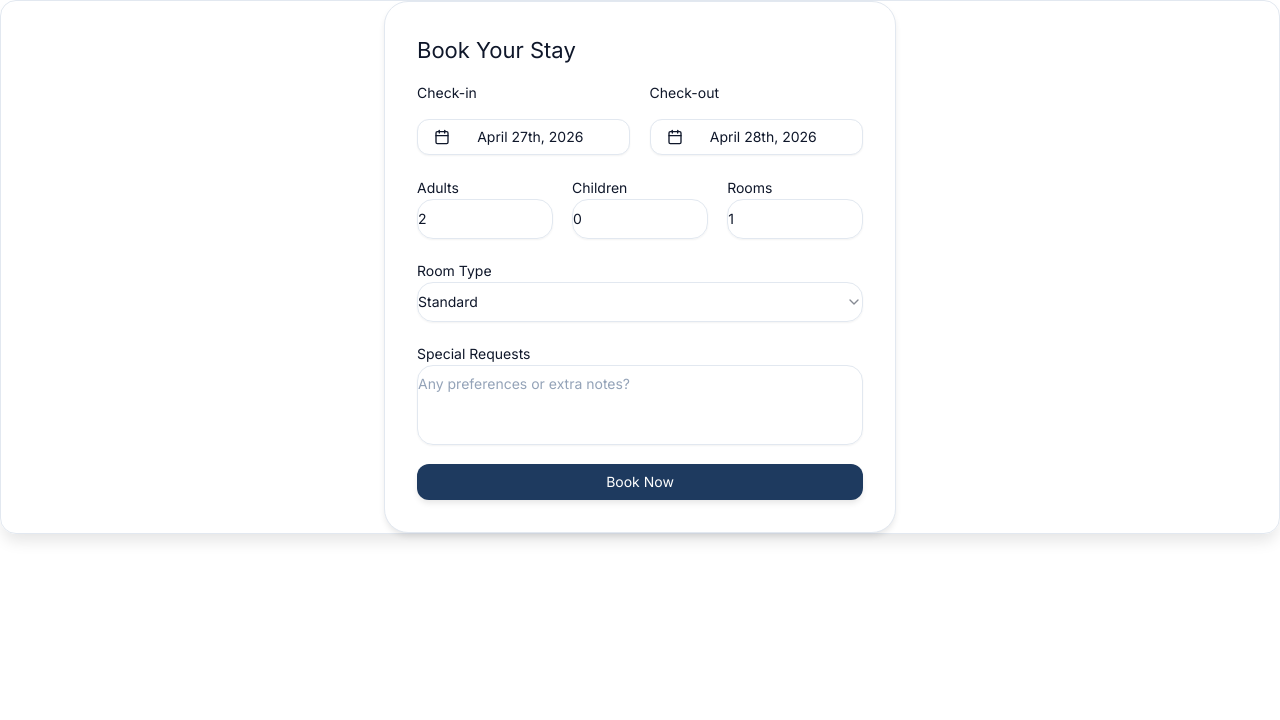
Scenario: BookingWidget - Story 1.5 Implementation › AC6: Mock Data and Integration › handles API network errors gracefully
The width and height of the screenshot is (1280, 720).
Click the button "Book Now": click(640, 482) [417,464,863,500]
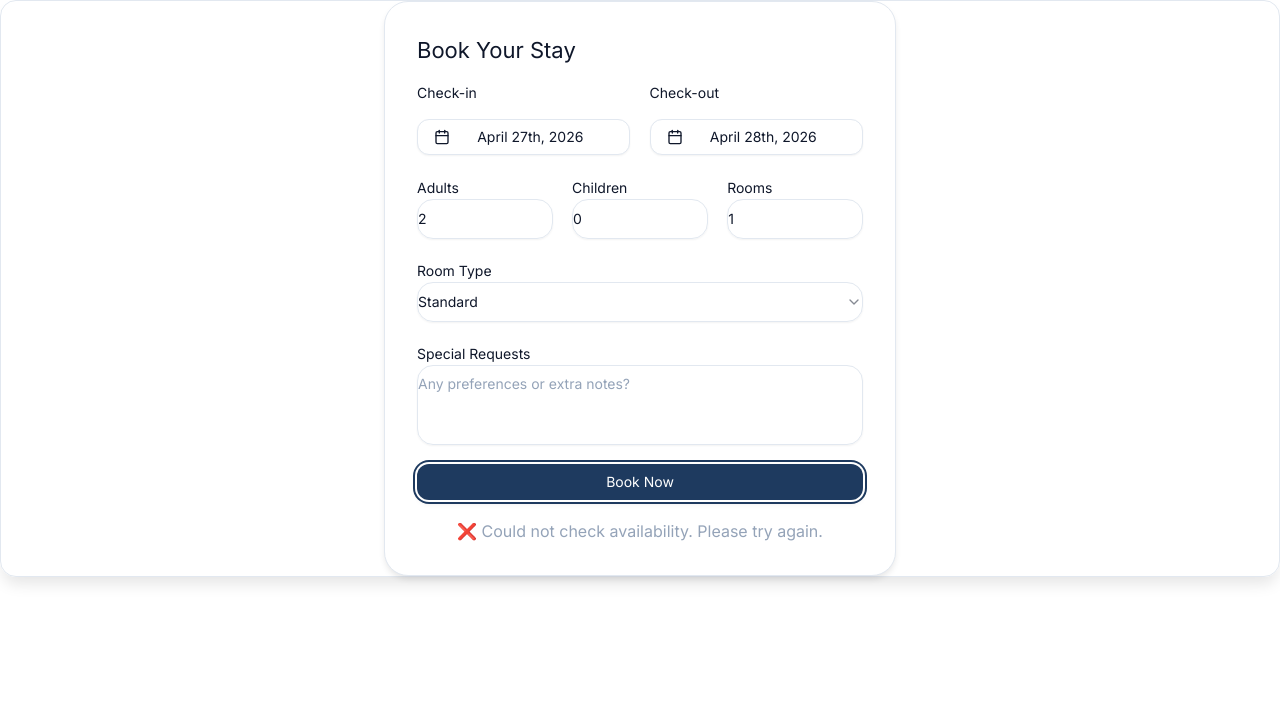
Expected: the text "❌ Could not check availability. Please try again." is shown, [457,521,823,541]
